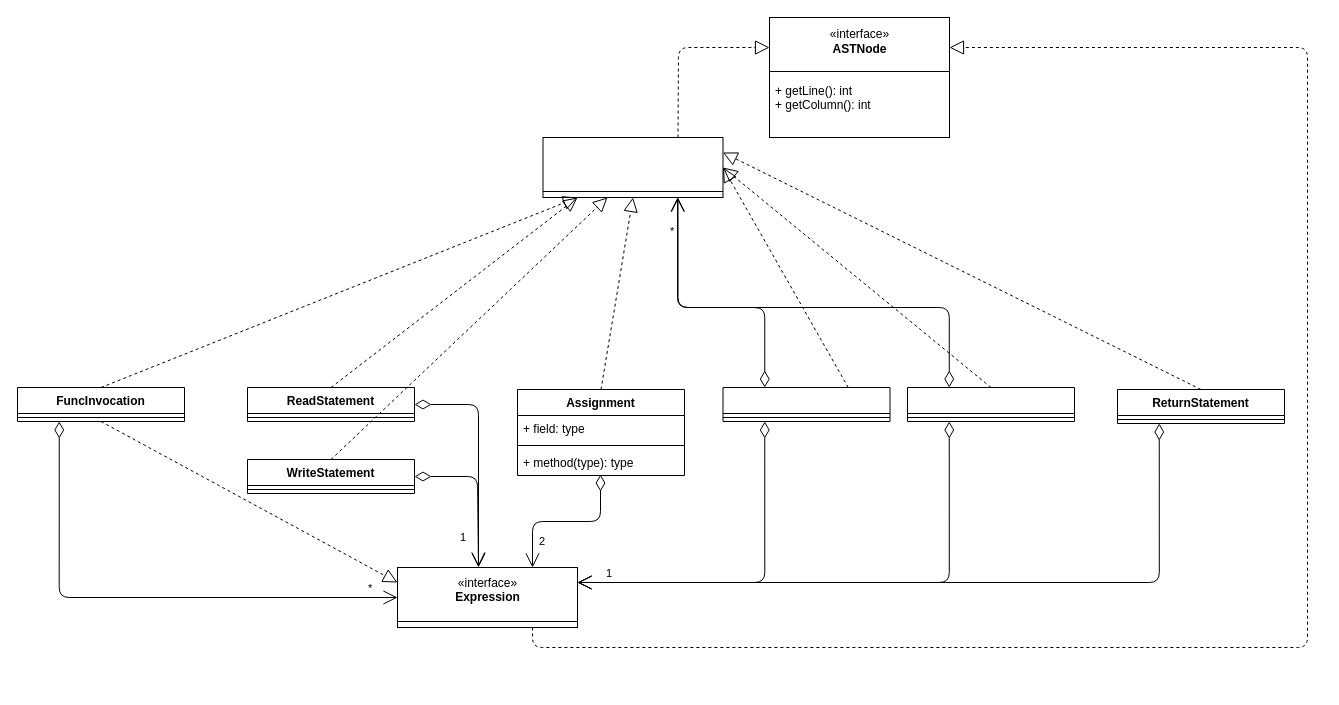
Image size: 1339x705. Some labels were removed from this diagram. The shapes that lost their labels are listed below. From the top down, each one's centre as x and y in pixels, then its label:
point (632, 167): «interface» Statement
point (806, 404): IfElse
point (990, 404): While
